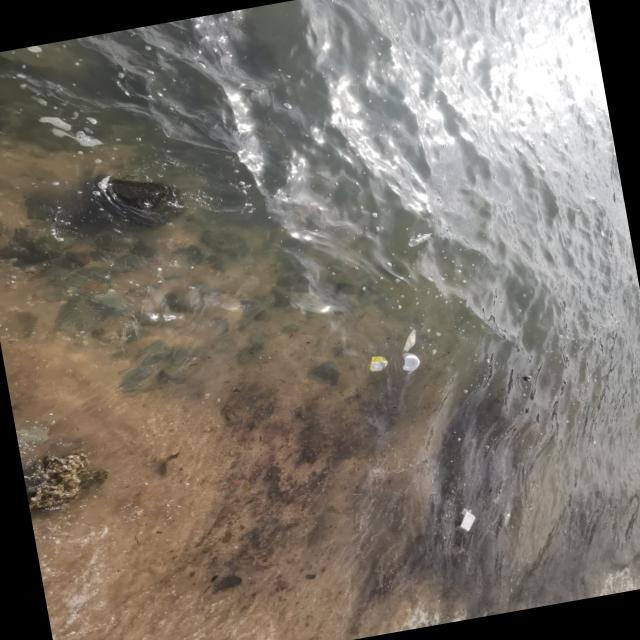foam: (450, 507, 478, 535), (400, 352, 422, 376)
plastic bottle: (407, 233, 435, 248)
